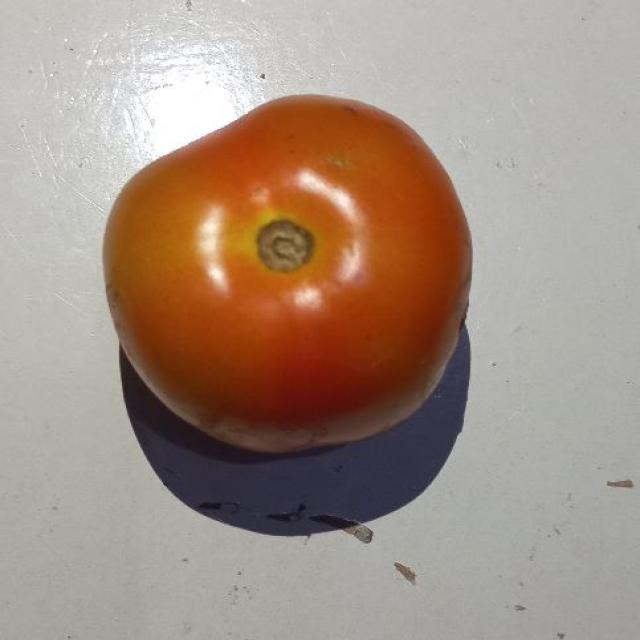ripe tomato: (86, 84, 493, 449)
